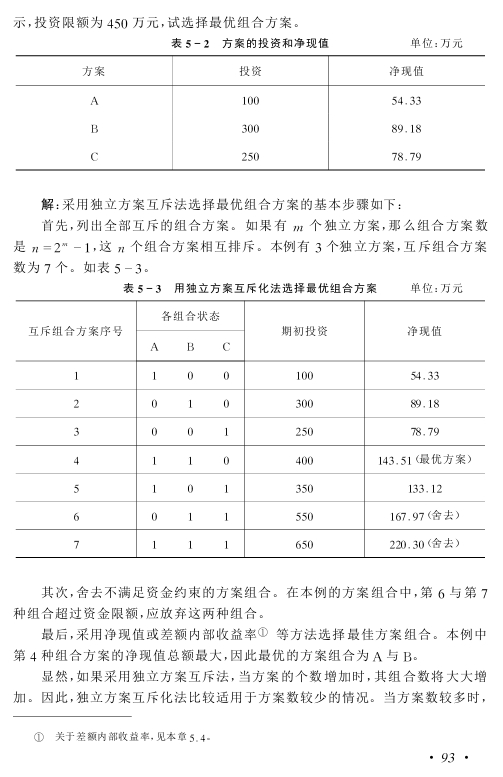table: (15, 300, 485, 558), (15, 55, 485, 171)
